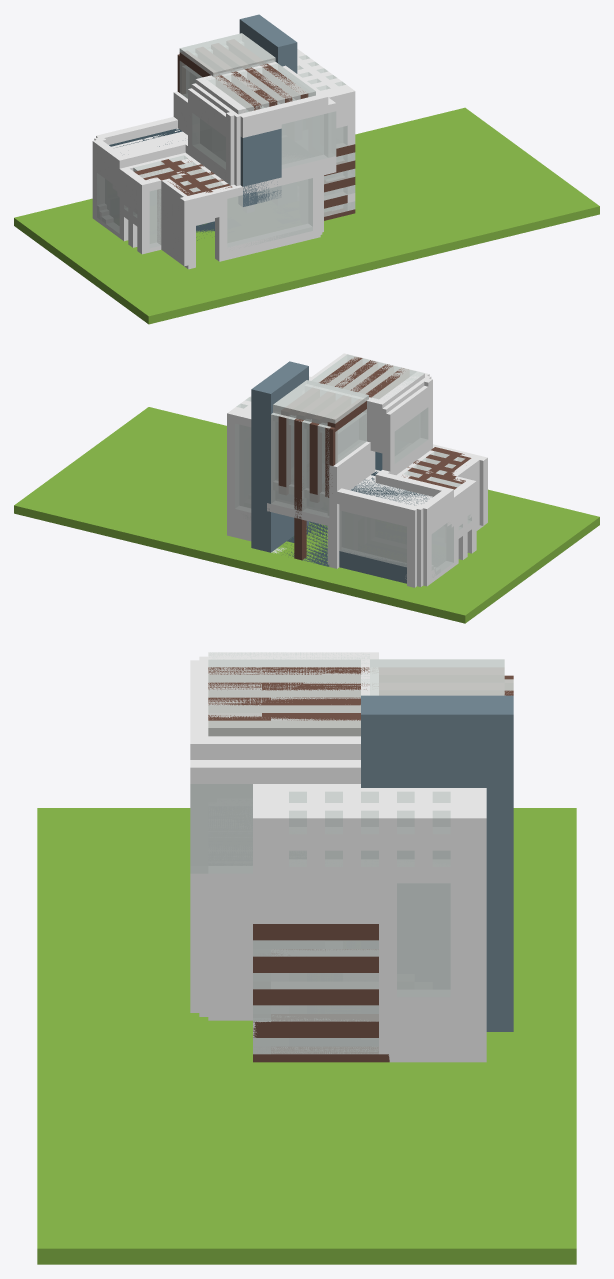
File: ModernHouse.fbx
3 renders of one model, top to bottom at view 1: azimuth 30°, elevation 25°; view 2: azimuth 150°, elevation 25°; view 3: azimuth 270°, elevation 25°, orthographic. The views are drawn at different scales.
Parts seen in each view (by area): view 1: node_id11 (×6); view 2: node_id11 (×6); view 3: node_id11 (×5).
Boxes of the visible parts, bbox=[...] form: node_id11 (×6): bbox=[14, 14, 599, 324]; node_id11 (×6): bbox=[14, 353, 599, 623]; node_id11 (×5): bbox=[37, 652, 576, 1264].
Size of the model in its own units: 0.512 by 0.1854 by 0.2648.
